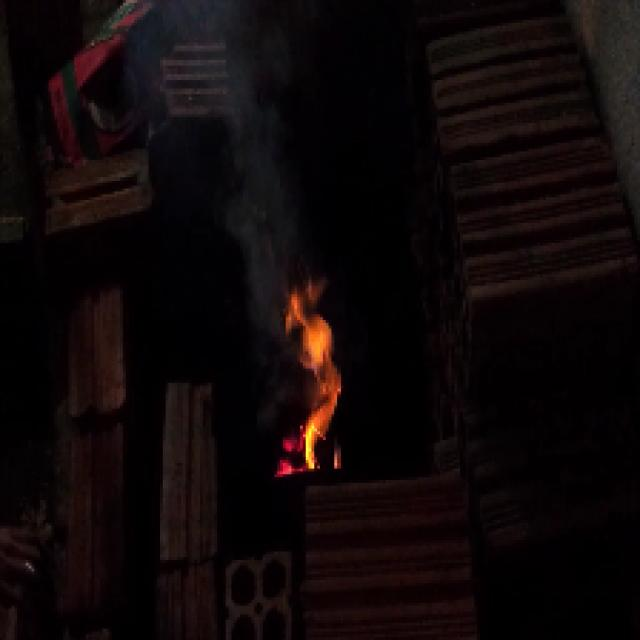fire: (281, 296, 345, 468)
smoke: (240, 130, 290, 294)
